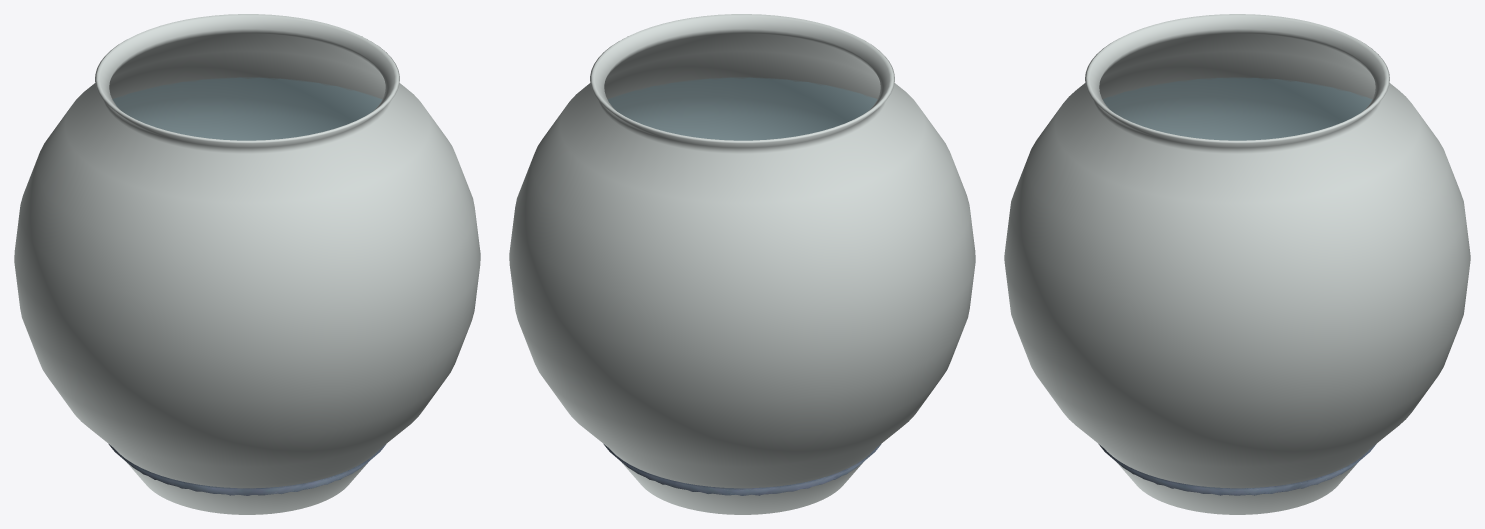
The model's file is two-fish.glb.
3 renders of one model, left to right at view 1: azimuth 30°, elevation 25°; view 2: azimuth 150°, elevation 25°; view 3: azimuth 270°, elevation 25°, orthographic.
Visible parts, largest first — view 1: bowl_glass, water, gravel; view 2: bowl_glass, water, gravel; view 3: bowl_glass, water, gravel.
Part boxes in pixels (x1,y1,x2,y2): bowl_glass: [14, 14, 480, 514]; water: [112, 77, 381, 140]; gravel: [108, 444, 386, 495]; bowl_glass: [509, 14, 975, 514]; water: [608, 77, 877, 140]; gravel: [603, 444, 881, 495]; bowl_glass: [1004, 14, 1470, 514]; water: [1103, 77, 1371, 140]; gravel: [1098, 444, 1376, 495].
Size of the model in its own units: 0.26 by 0.2411 by 0.26.
6 materials, 4 textured.
